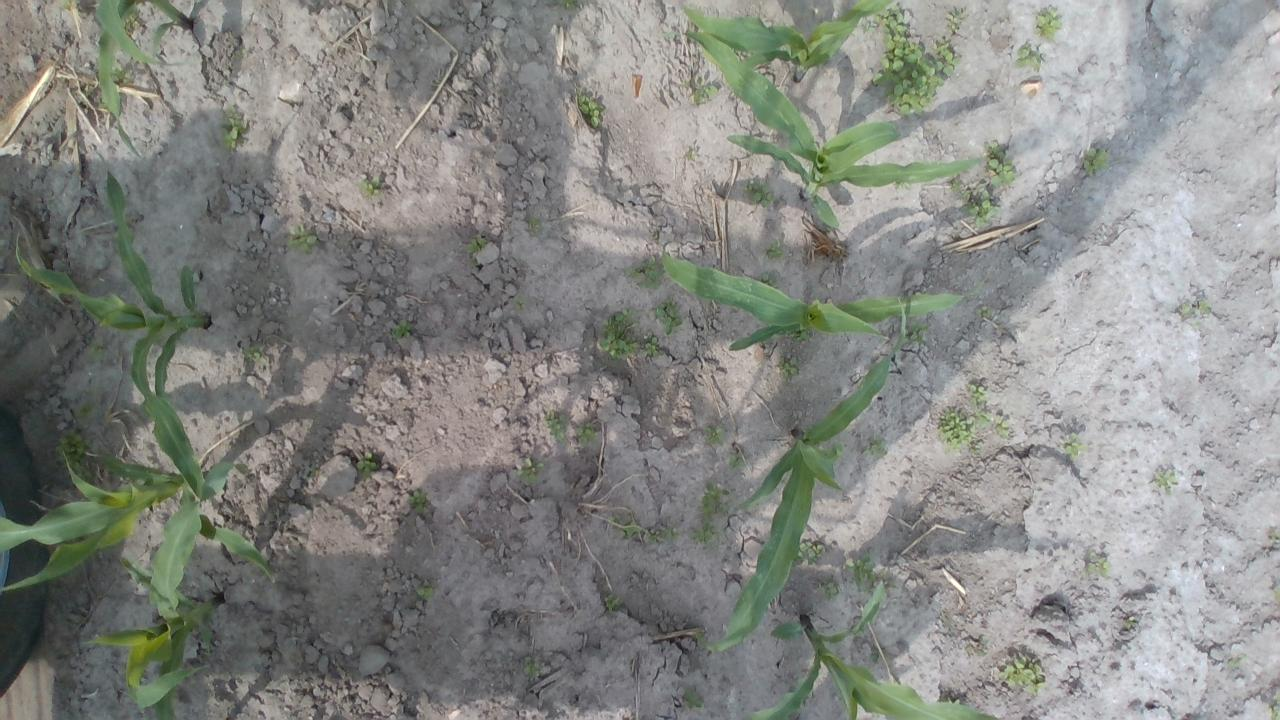Maize: (701, 297, 904, 650), (10, 171, 212, 504), (682, 26, 992, 230), (0, 450, 281, 594), (741, 578, 1004, 720), (657, 243, 966, 350), (81, 552, 225, 720), (91, 0, 194, 161), (678, 0, 896, 72)
Weeds: (869, 2, 965, 115), (596, 307, 644, 360), (688, 482, 729, 544), (55, 430, 97, 482), (998, 656, 1046, 696), (936, 410, 978, 452), (959, 188, 1000, 227), (984, 144, 1018, 186), (624, 256, 664, 290), (846, 552, 876, 594), (222, 106, 248, 152), (286, 222, 321, 255), (1033, 4, 1062, 41), (656, 296, 682, 336), (574, 93, 602, 129), (544, 408, 570, 446), (680, 76, 716, 103), (743, 178, 774, 207), (1013, 43, 1043, 72), (791, 542, 825, 567), (606, 515, 640, 538), (1150, 469, 1178, 496), (516, 457, 544, 483), (1082, 147, 1108, 175), (1063, 430, 1087, 460), (646, 526, 680, 547), (355, 450, 378, 481), (574, 422, 600, 448), (902, 320, 928, 346), (776, 356, 801, 383), (1085, 549, 1107, 577), (1178, 300, 1212, 318), (110, 60, 135, 84), (703, 422, 726, 446), (966, 382, 988, 407), (861, 438, 888, 458), (359, 174, 382, 197), (407, 489, 427, 514), (685, 688, 705, 712), (820, 576, 840, 600), (86, 342, 106, 363), (78, 398, 98, 417), (604, 592, 623, 612), (390, 319, 411, 337), (463, 238, 488, 253), (994, 416, 1010, 439), (1267, 692, 1280, 720), (242, 342, 262, 360), (522, 655, 540, 674), (642, 334, 656, 358), (726, 454, 744, 472), (526, 216, 544, 234), (766, 240, 784, 257), (417, 582, 434, 600), (756, 272, 775, 288), (976, 408, 993, 425), (122, 13, 140, 29), (974, 306, 994, 318), (1231, 654, 1248, 667), (556, 0, 576, 10), (937, 696, 961, 704), (511, 296, 529, 306), (136, 479, 154, 487), (896, 182, 913, 190), (951, 178, 961, 191), (1124, 618, 1136, 627), (58, 0, 72, 6), (871, 653, 881, 661), (1275, 587, 1280, 602), (977, 648, 985, 657), (238, 47, 246, 55)
